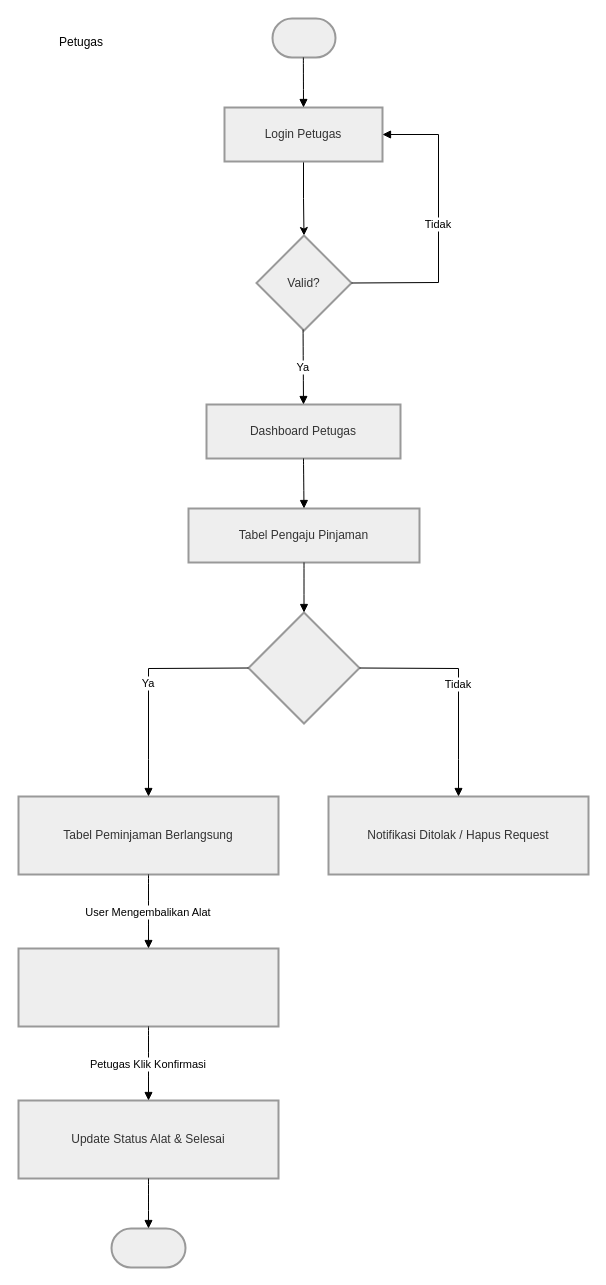
This 606x1285 diagram has some shape labels left out. The shapes that lost their labels are listed below. From the top down, each one's box as (x1, y1, x2, y2) in pixels, then its label:
(271, 17, 336, 58): Mulai
(247, 611, 360, 724): Setujui?
(17, 947, 279, 1027): Tabel Konfirmasi Pengembalian
(110, 1227, 186, 1268): Selesai
